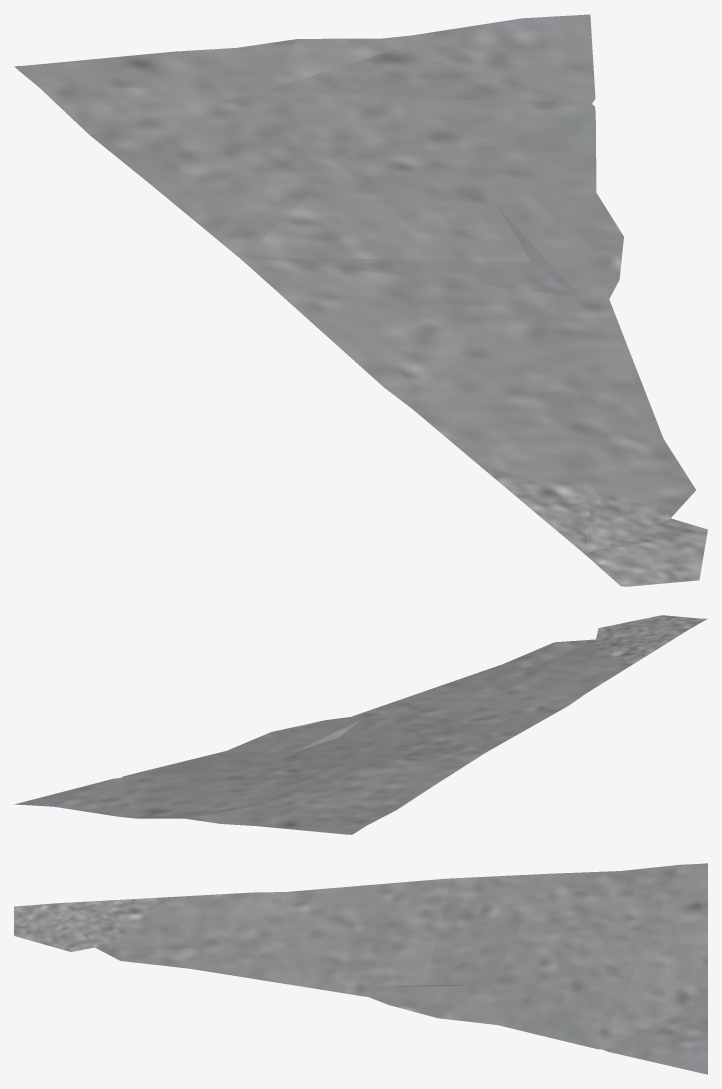
The picture shows the model from 3 angles, top to bottom: view 1: azimuth 30°, elevation 25°; view 2: azimuth 150°, elevation 25°; view 3: azimuth 270°, elevation 25°; orthographic projection. The views are drawn at different scales.
Size of the model in its own units: 0.918 by 0.1352 by 1.67.
Materials: 1 (1 with a texture image).
